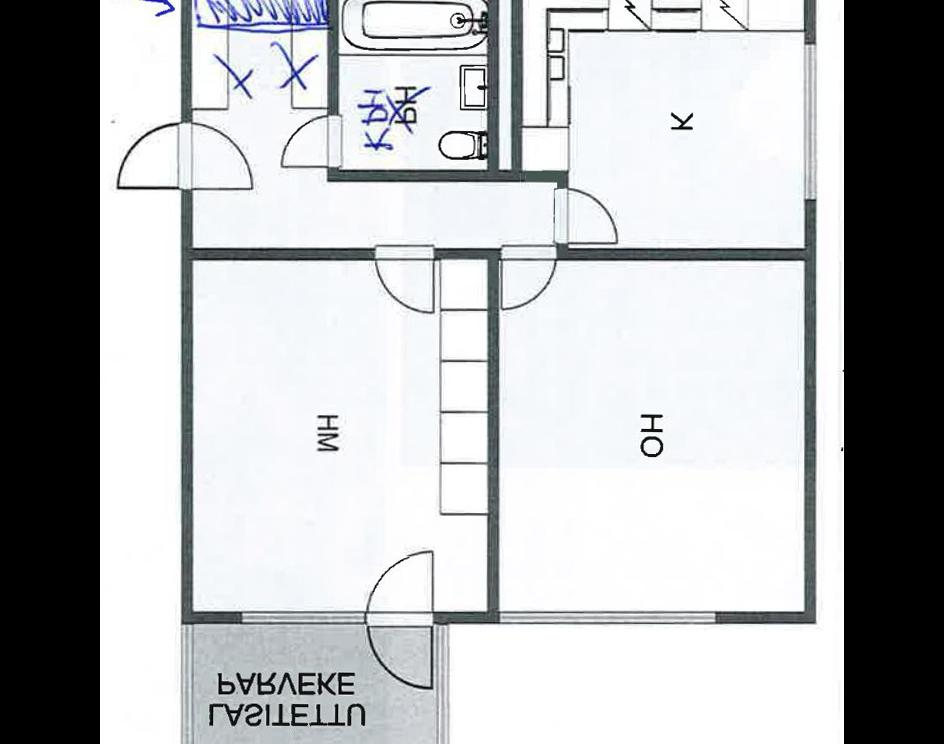door: (113, 116, 196, 196), (178, 116, 258, 195), (365, 608, 438, 692), (364, 542, 437, 626), (369, 238, 438, 316), (495, 240, 560, 316), (552, 180, 622, 248), (276, 110, 347, 174)
window: (492, 602, 727, 628), (798, 31, 822, 207), (230, 606, 371, 628), (433, 614, 454, 744), (178, 612, 196, 744)
